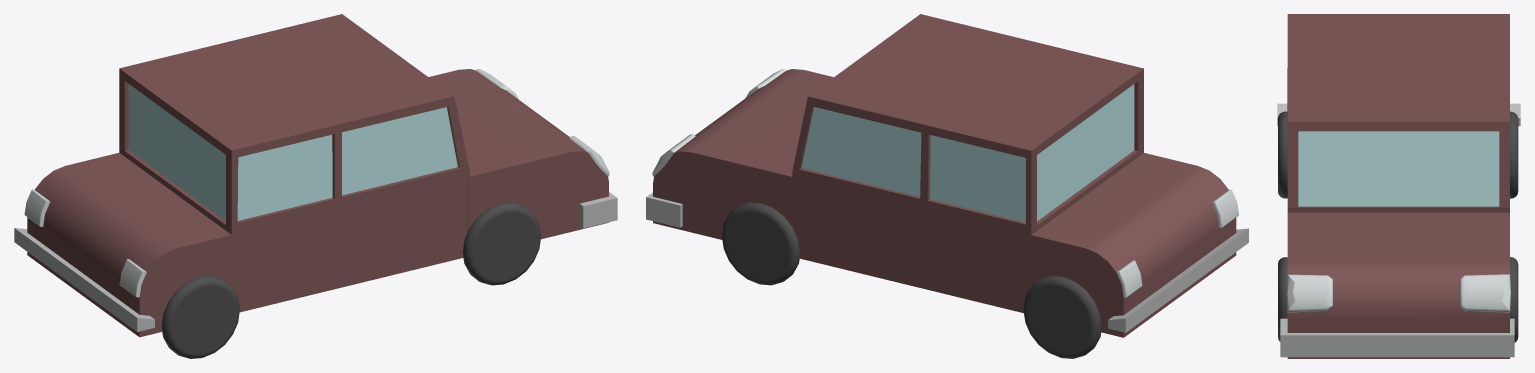
The model's file is red parked car.fbx.
3 renders of one model, left to right at view 1: azimuth 30°, elevation 25°; view 2: azimuth 150°, elevation 25°; view 3: azimuth 270°, elevation 25°, orthographic.
Visible parts, largest first — view 1: front_of_car2; view 2: front_of_car2; view 3: front_of_car2.
Part boxes in pixels (bbox=[...]): front_of_car2: bbox=[14, 14, 617, 358]; front_of_car2: bbox=[646, 14, 1248, 358]; front_of_car2: bbox=[1277, 14, 1520, 358].
Bounding box in the file's own units: 6.3 × 2.48 × 2.78.
